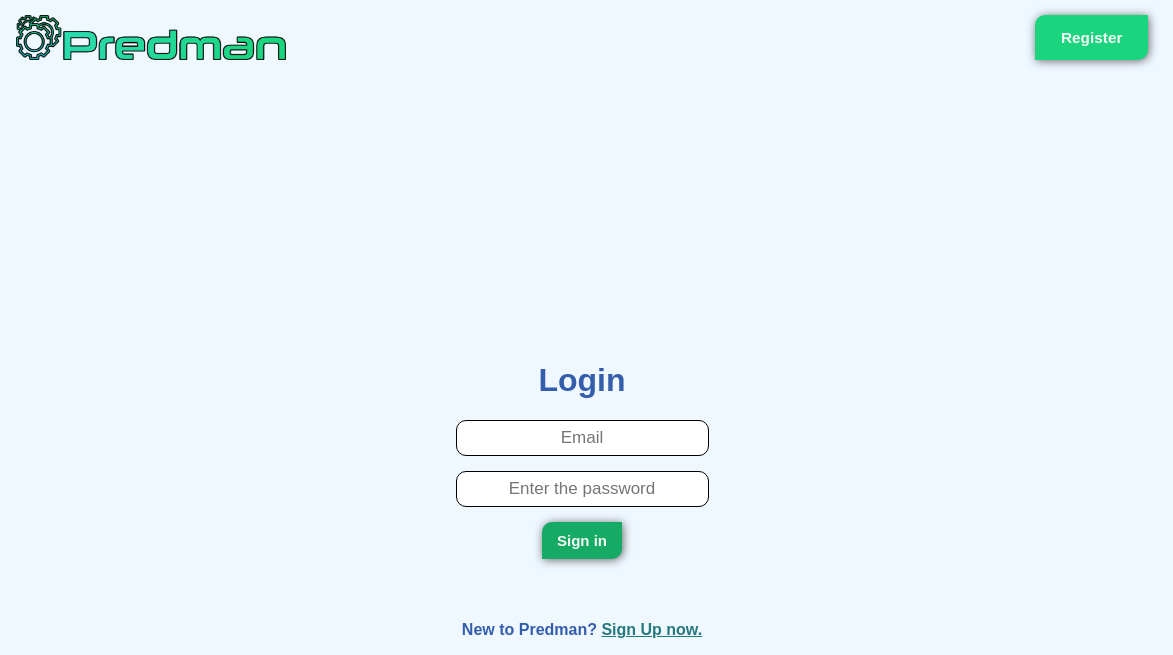
Test: Login component › displays loading animation during submit
Step 1. Type "loading@example.com" into the field with placeholder "Email" → (582, 438), box [456,420,708,456]
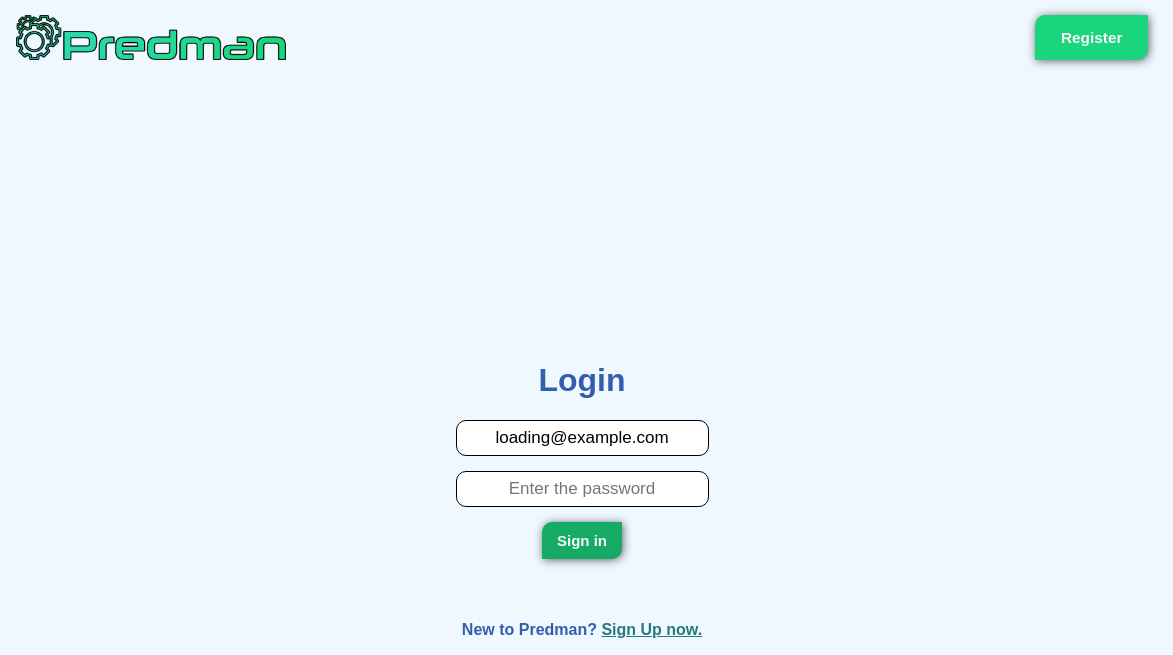
Step 2. Type "loading" into the password field with placeholder "Enter the password" → (582, 489), box [456,471,708,507]
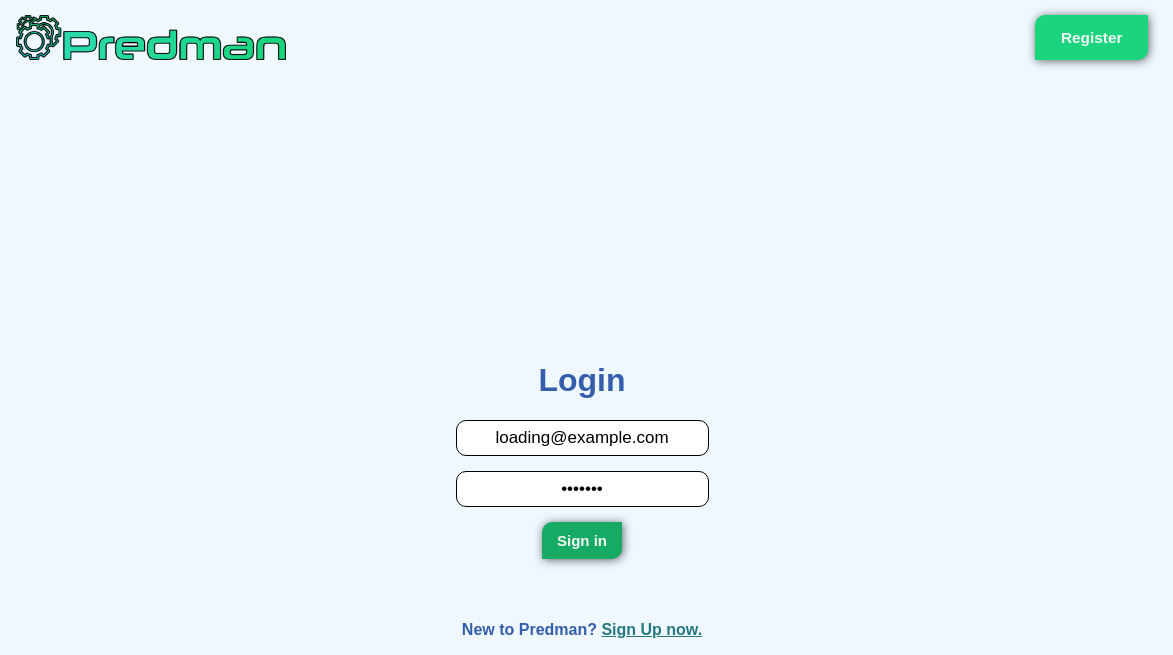
Step 3. Click the button "Sign in" → (582, 541), box [542,522,622,559]
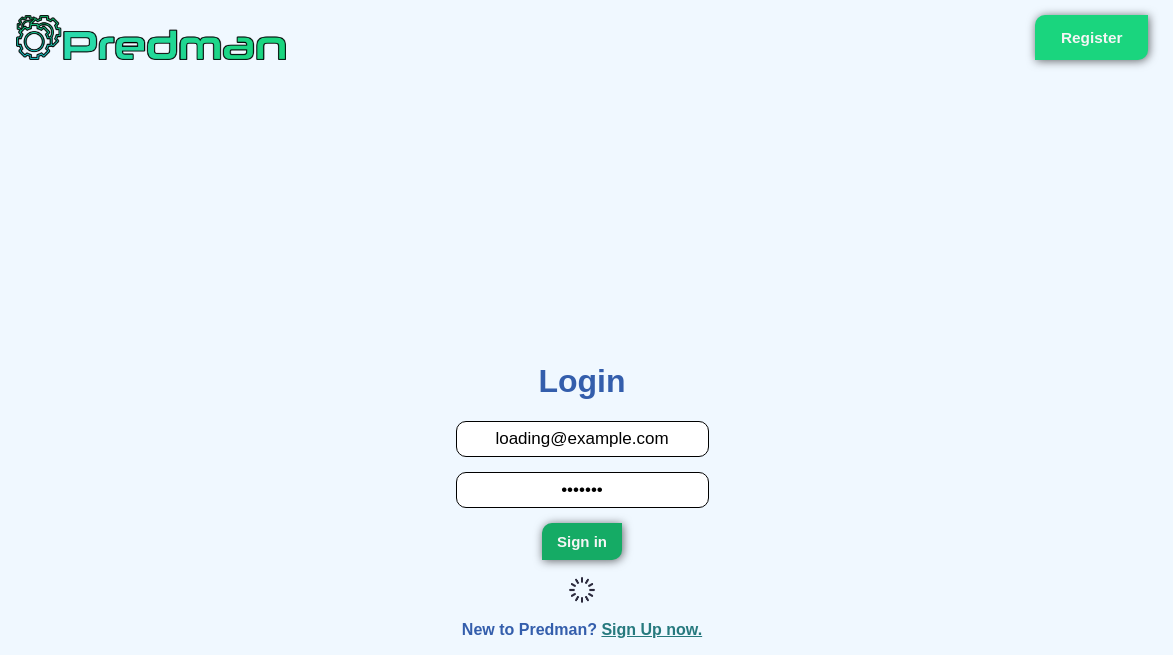
Expected: the picture with test id "loading" is shown, [567,575,597,606]
